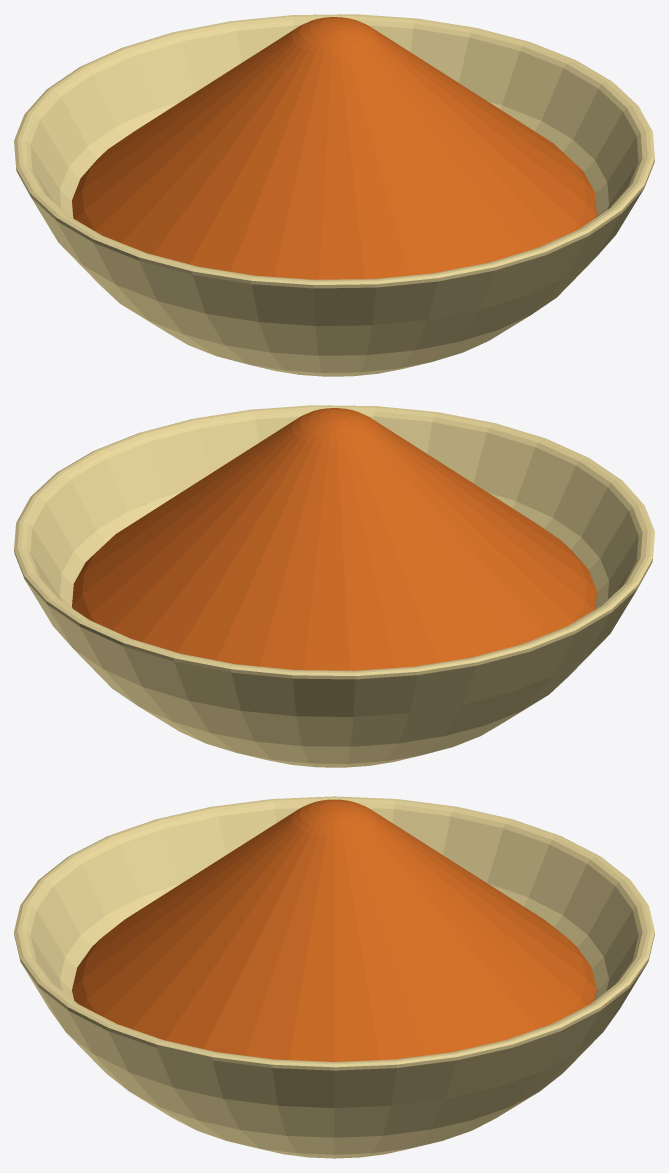
Rendered from spice.fbx.
3 views of the same model, one above another, from view 1: azimuth 30°, elevation 25°; view 2: azimuth 150°, elevation 25°; view 3: azimuth 270°, elevation 25° (orthographic).
Parts seen in each view (by area): view 1: spice bowl; view 2: spice bowl; view 3: spice bowl.
Part boxes in pixels (<box>): spice bowl: <box>14,14,654,376</box>; spice bowl: <box>14,405,654,767</box>; spice bowl: <box>14,796,654,1158</box>.
Size of the model in its own units: 183 by 93.19 by 183.
